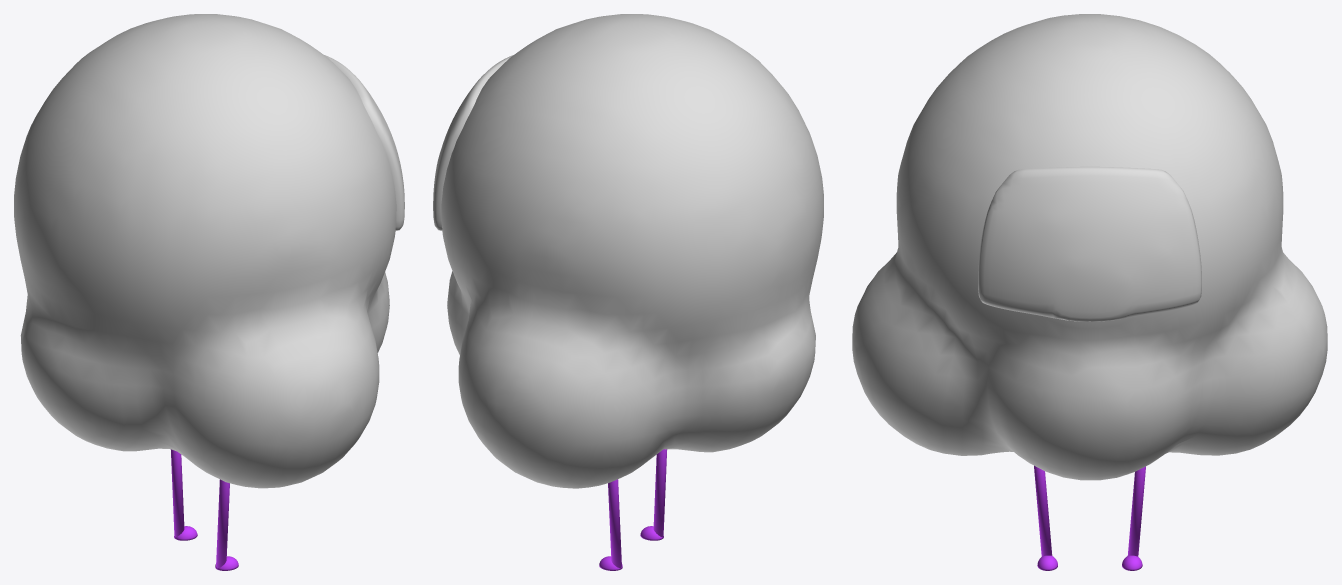
Rendered from spaceship.fbx.
3 views of the same model, side by side, from view 1: azimuth 30°, elevation 25°; view 2: azimuth 150°, elevation 25°; view 3: azimuth 270°, elevation 25° (orthographic). The views are drawn at different scales.
Visible parts, largest first — view 1: body, leg, sunglasses; view 2: body, leg, sunglasses; view 3: body, sunglasses, leg.
Boxes of the visible parts, x1,y1,x2,y2 form: body: [14, 14, 396, 488]; leg: [170, 449, 238, 570]; sunglasses: [324, 55, 404, 230]; body: [441, 14, 823, 488]; leg: [599, 449, 667, 570]; sunglasses: [433, 55, 513, 230]; body: [852, 14, 1327, 480]; sunglasses: [978, 166, 1201, 321]; leg: [1034, 465, 1145, 570].
Bounding box in the file's own units: 102 × 147 × 119.
